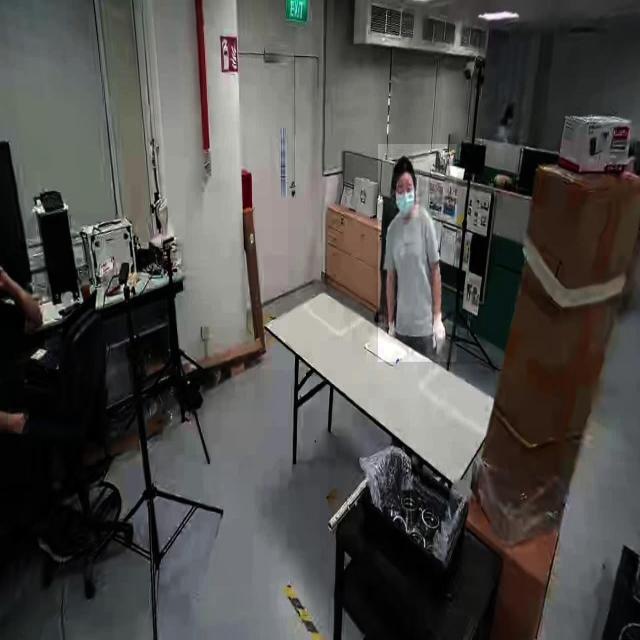face_mask: (391, 173, 418, 217)
hand_glove: (427, 306, 449, 357)
hand_noglove: (17, 289, 43, 329), (8, 408, 30, 435)
head_nohelmet: (392, 155, 414, 173)
person: (378, 144, 457, 363)
